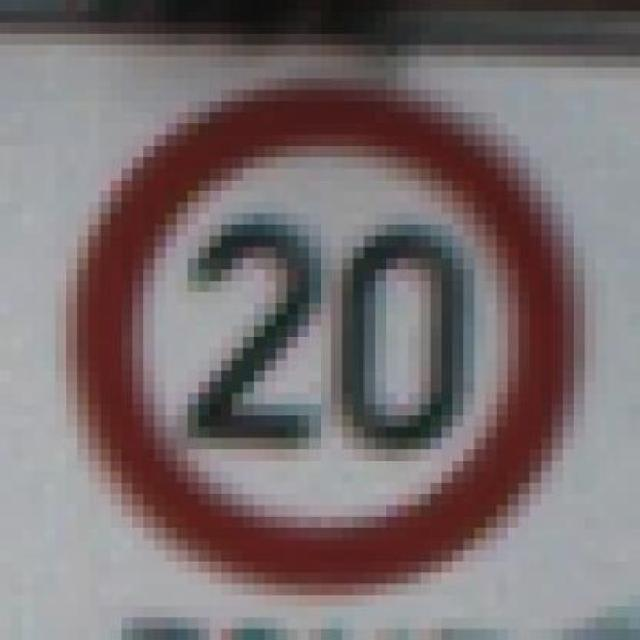Speed Limit 20 KMPh: (44, 67, 607, 618)
